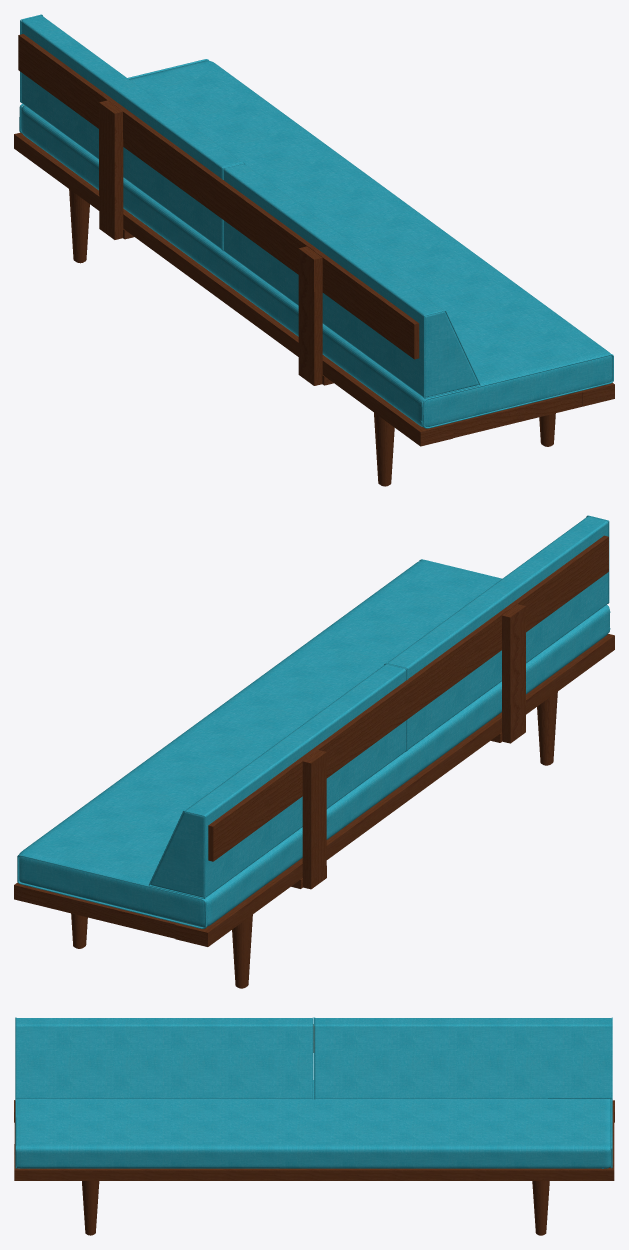
The picture shows the model from 3 angles, top to bottom: view 1: azimuth 30°, elevation 25°; view 2: azimuth 150°, elevation 25°; view 3: azimuth 270°, elevation 25°; orthographic projection. The views are drawn at different scales.
Bounding box in the file's own units: 0.7968 × 0.7787 × 2.75.
2 materials, 2 textured.
